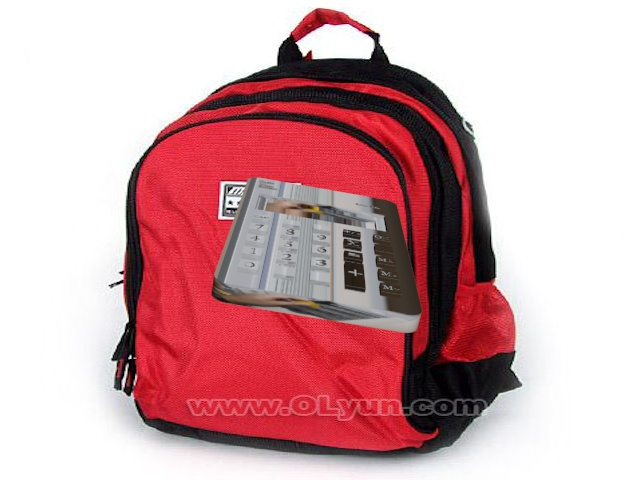calculator: (208, 176, 432, 336)
